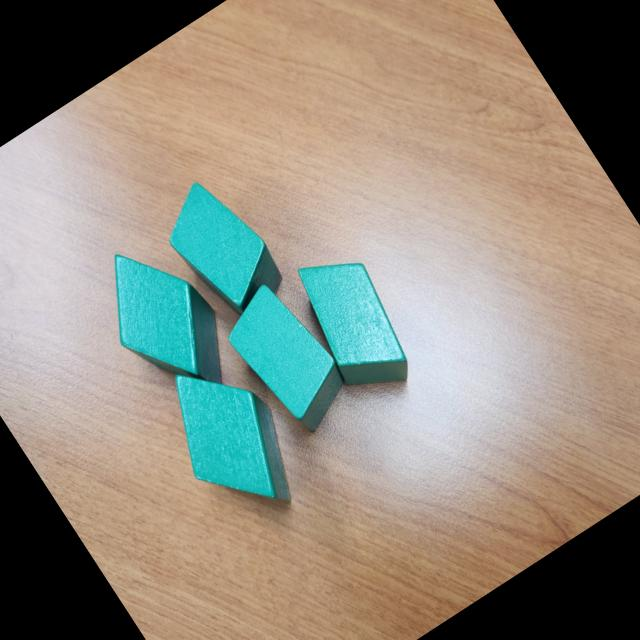green: (76, 222, 252, 420), (143, 342, 315, 532), (278, 236, 430, 409), (212, 272, 364, 444), (148, 167, 294, 330)
